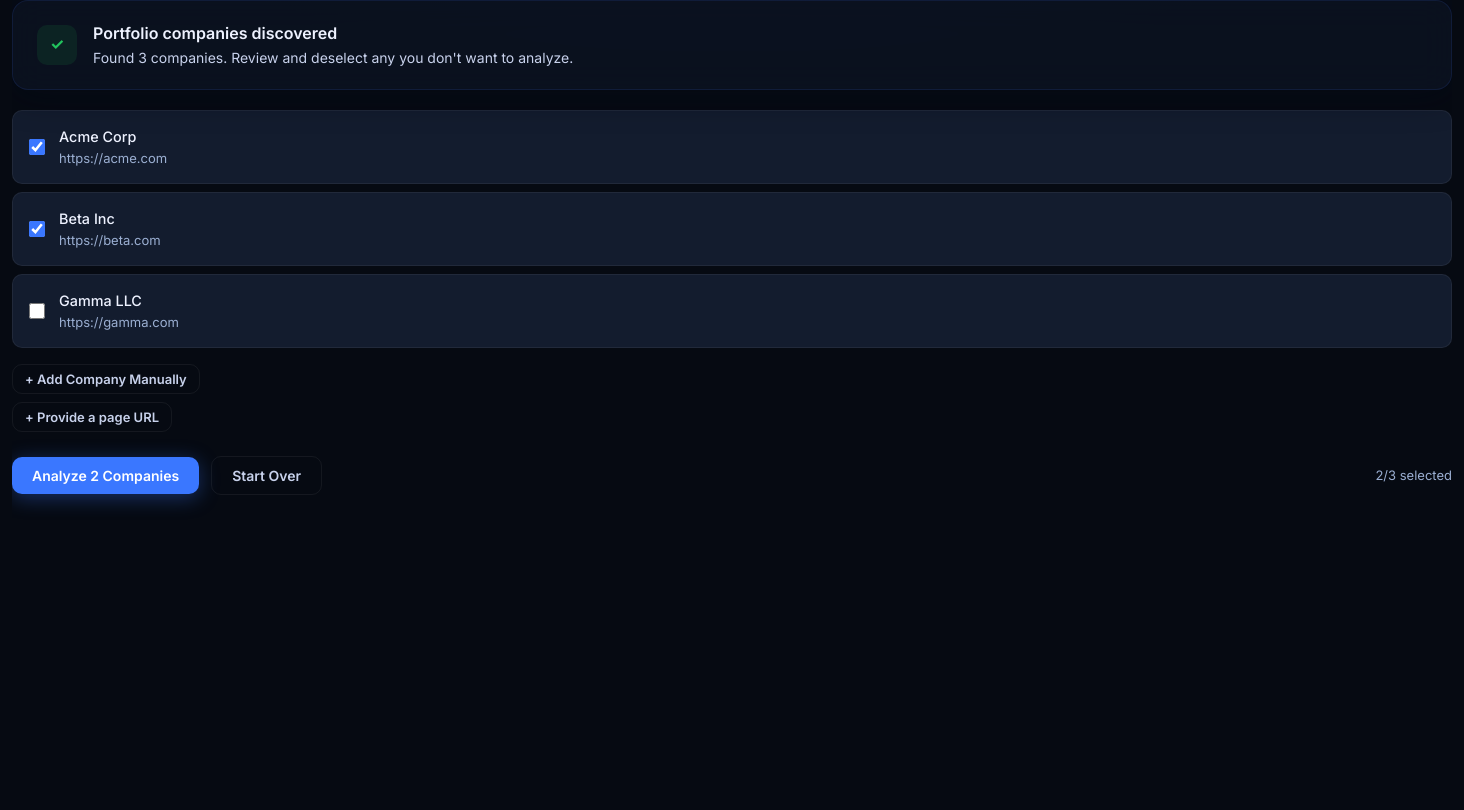
Test: PortfolioConfirmPhase › manual company addition › clears form and collapses after successful add
Click the button "+ Add Company Manually" at x=106, y=378, box x1=12 y1=364 x2=200 y2=394
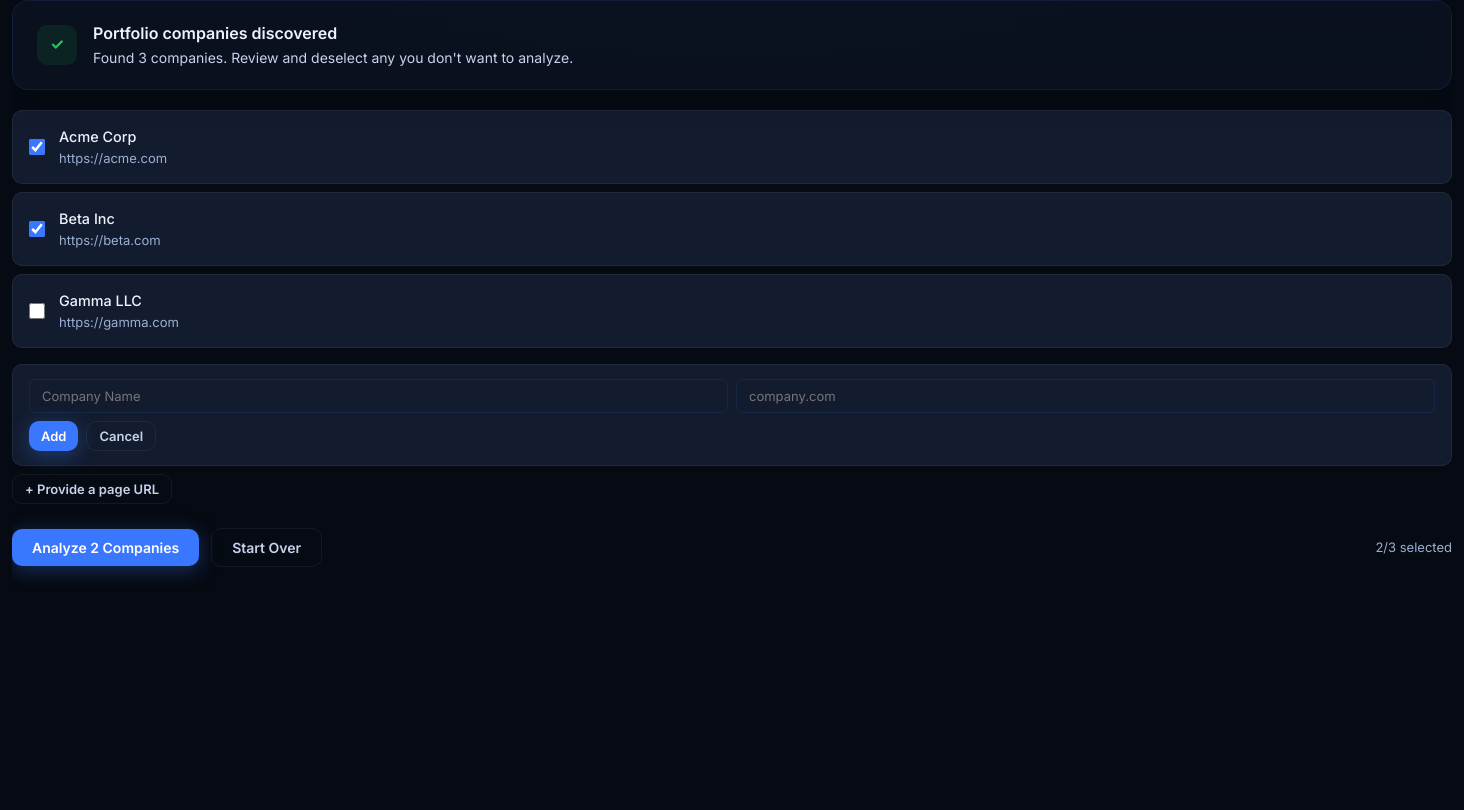
Type "New Corp" into the field labelled "Company Name" at x=378, y=396, box x1=29 y1=378 x2=728 y2=412
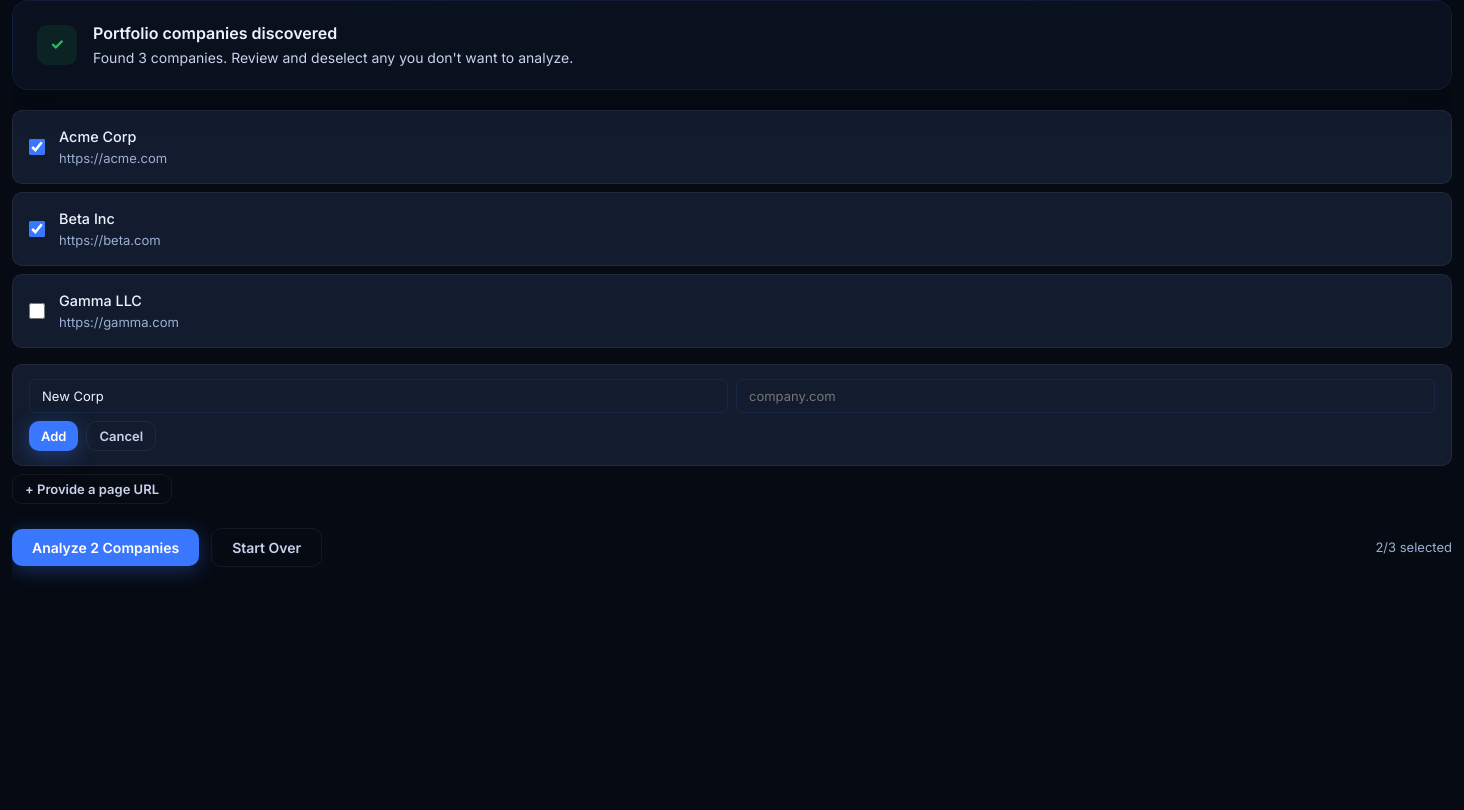
Type "https://newcorp.com" into the field named "Company URL" at x=1086, y=396, box x1=736 y1=378 x2=1435 y2=412
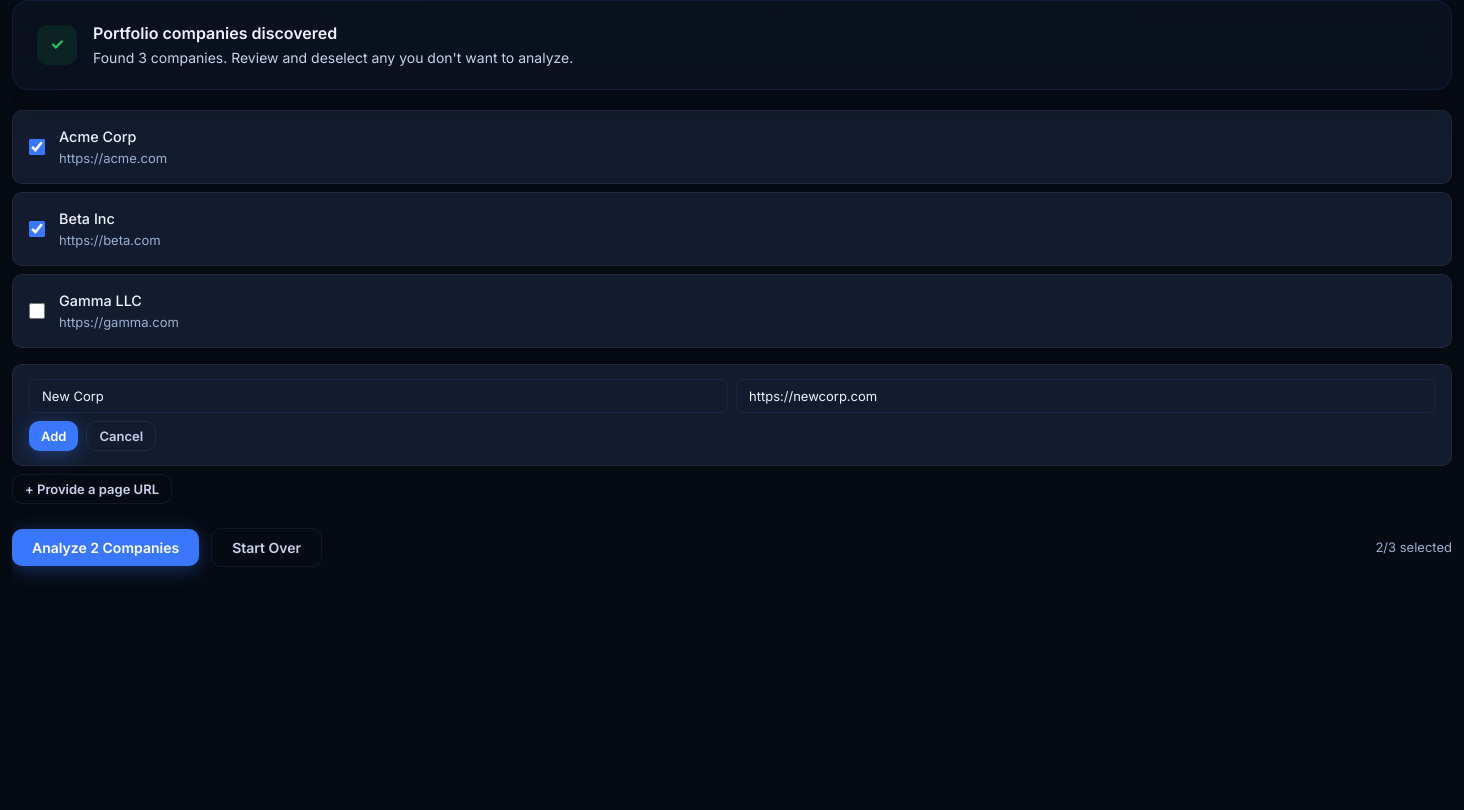
Click the button "Add" at x=54, y=436, box x1=29 y1=420 x2=78 y2=450
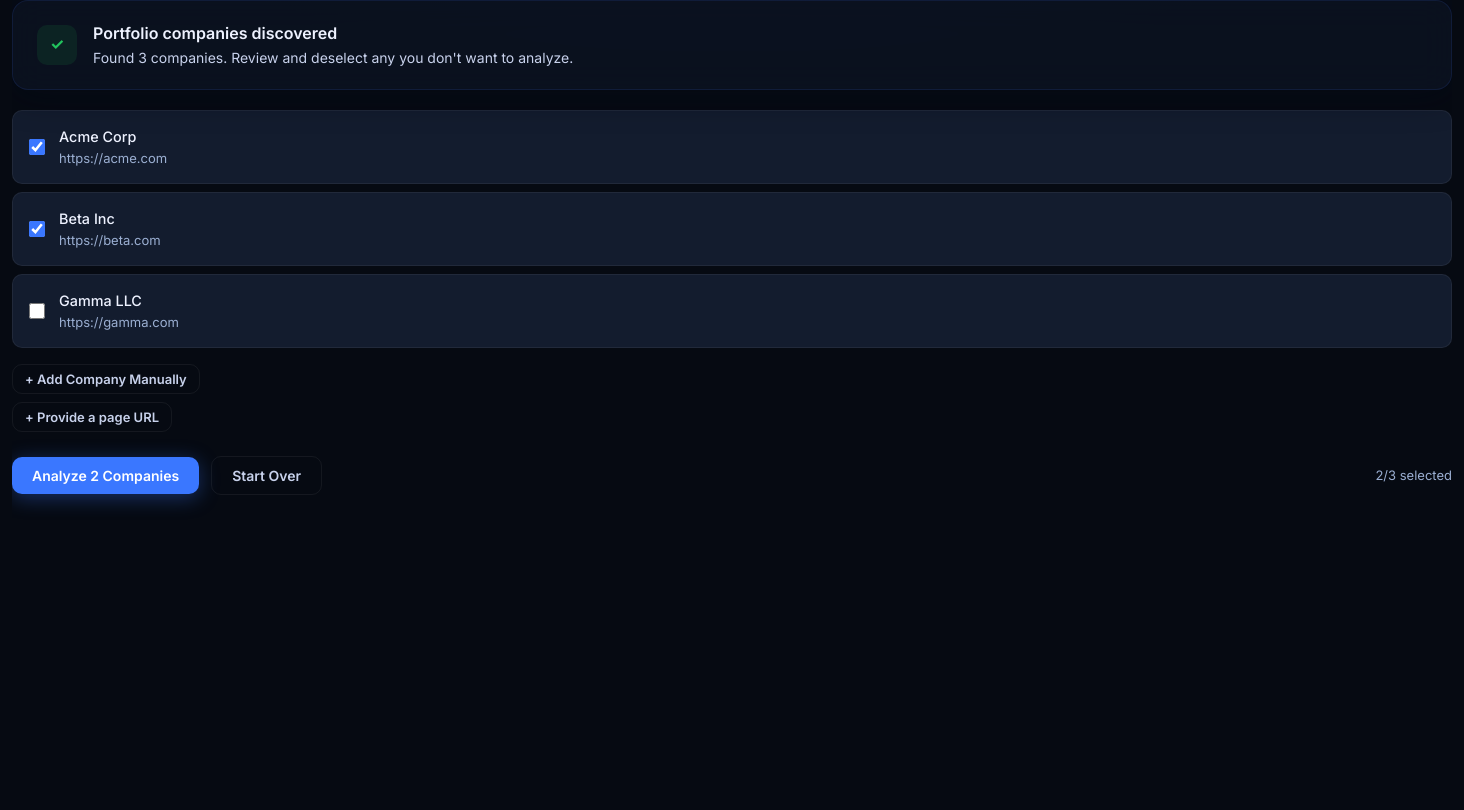
Expected: the field labelled "Company Name" is not shown
Expected: the button "+ Add Company Manually" is shown, x1=12 y1=364 x2=200 y2=394
